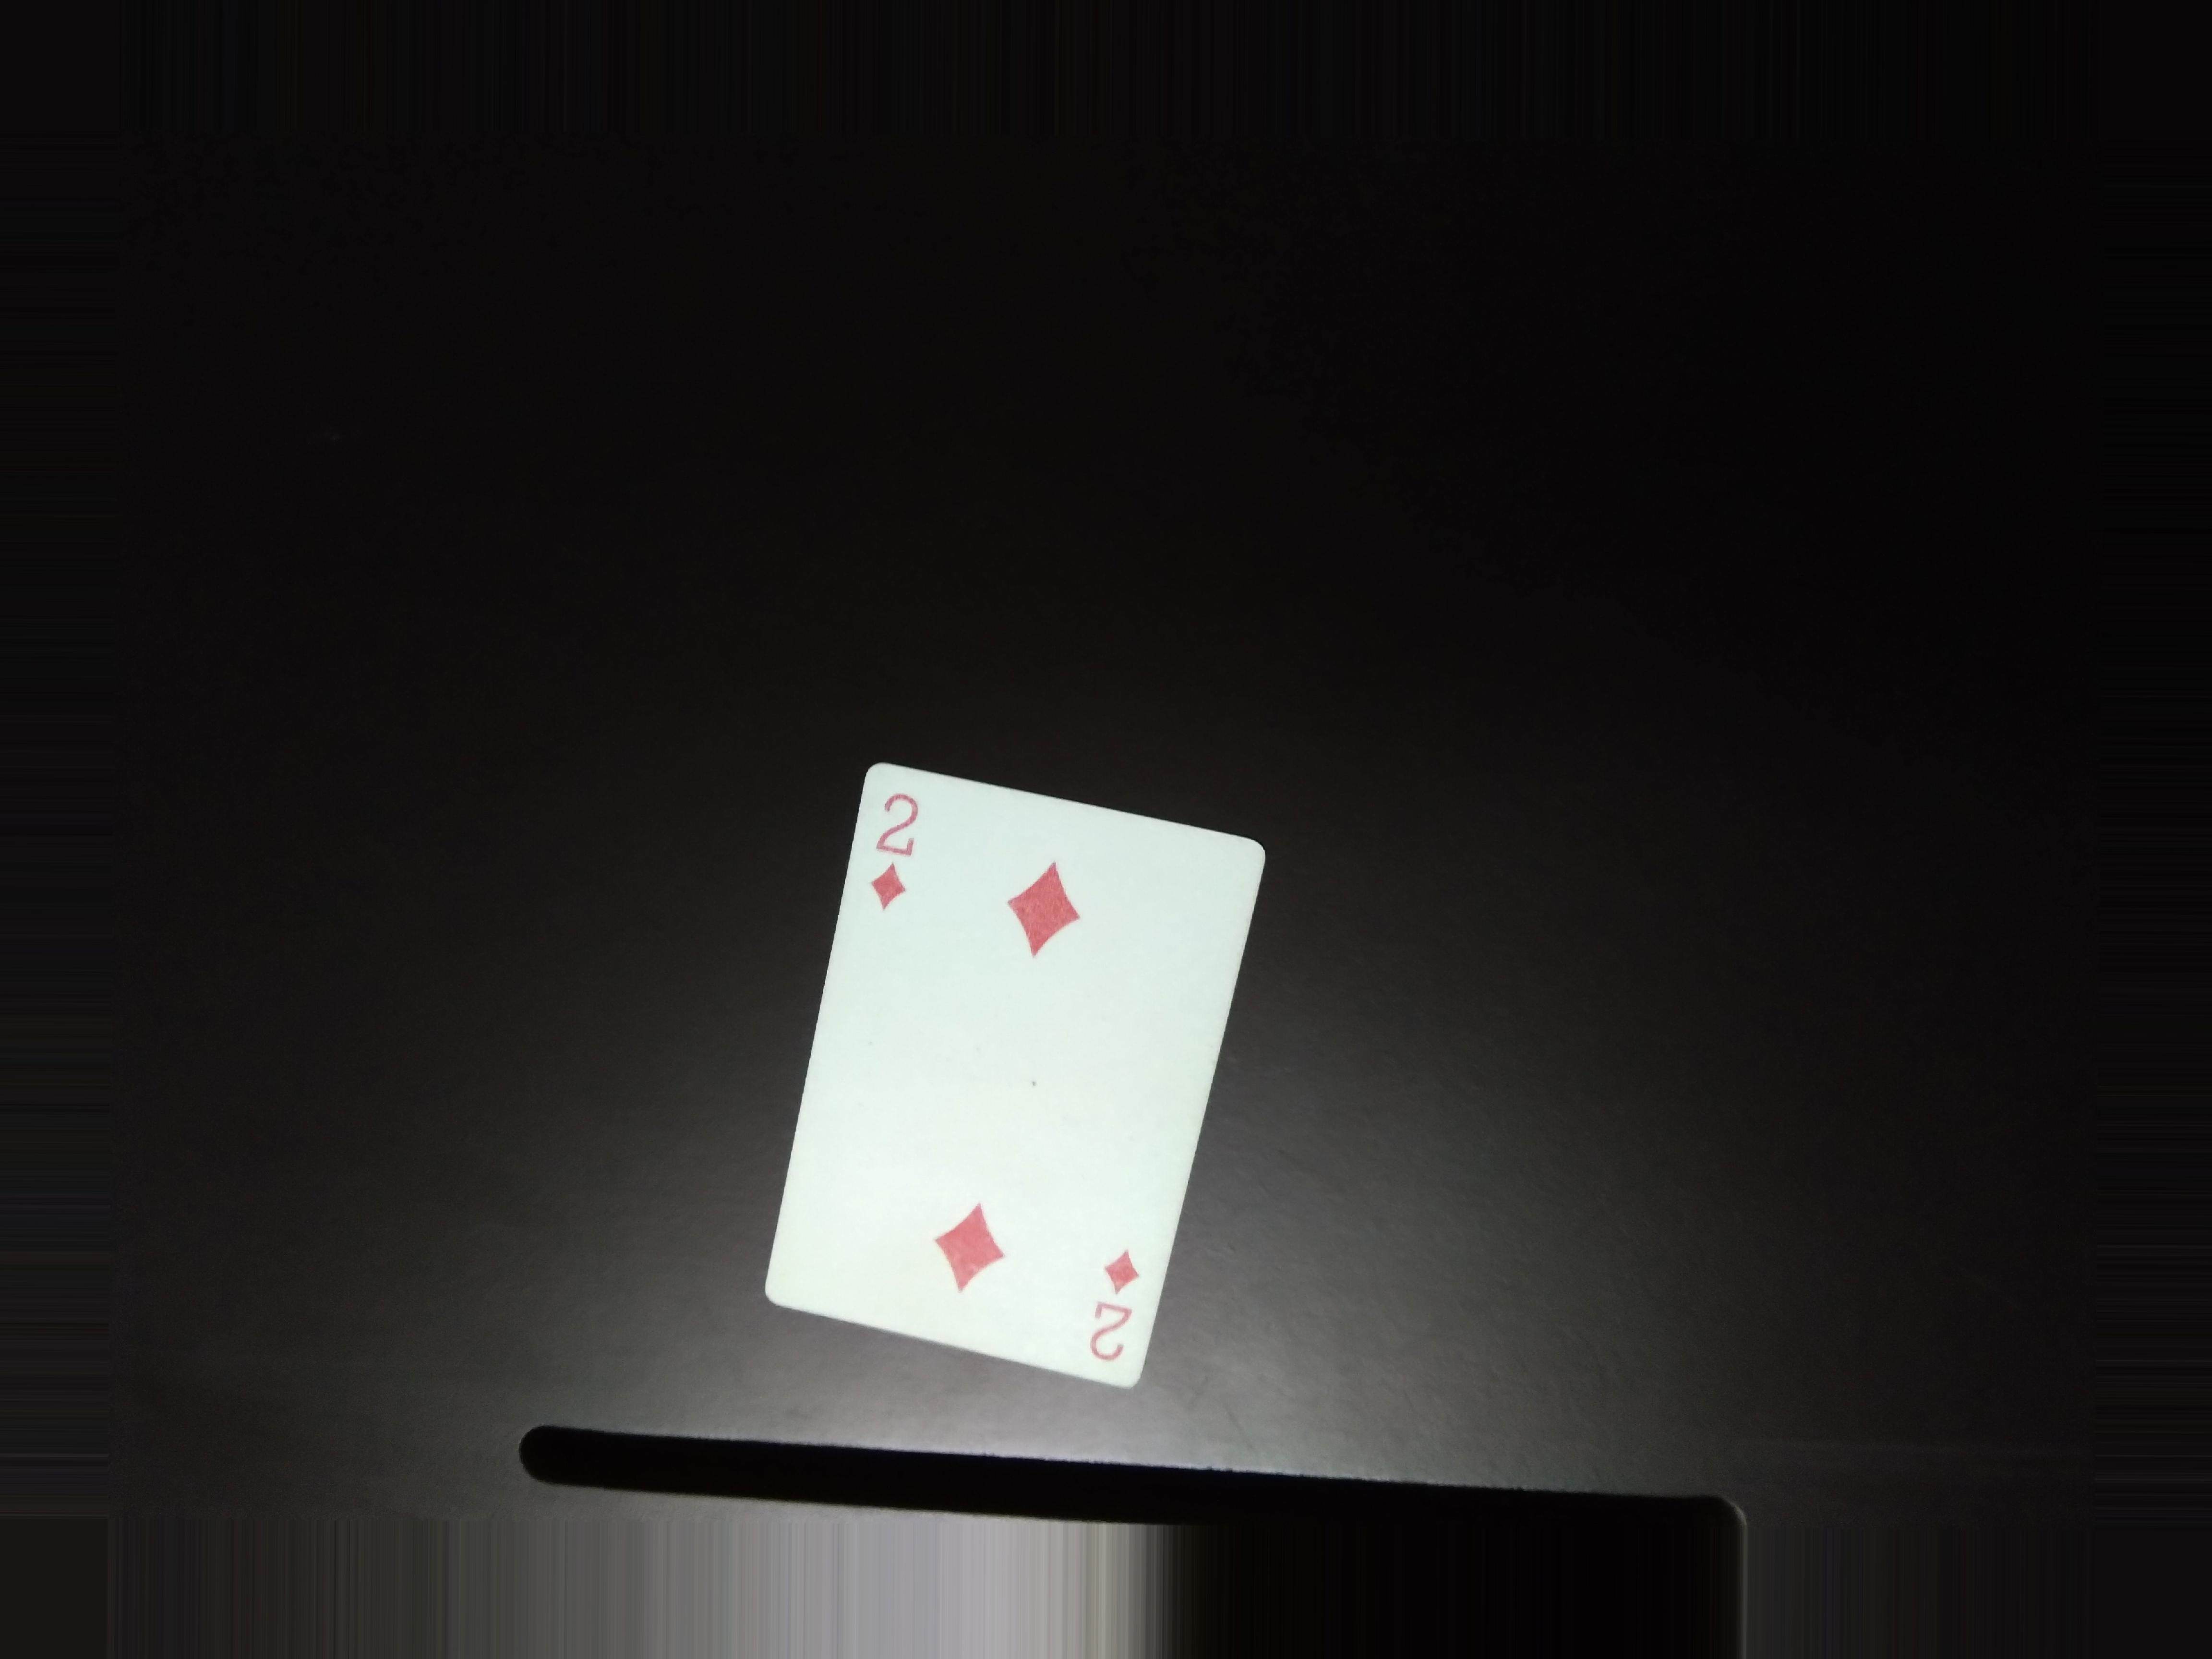2D: (880, 775, 920, 924)
